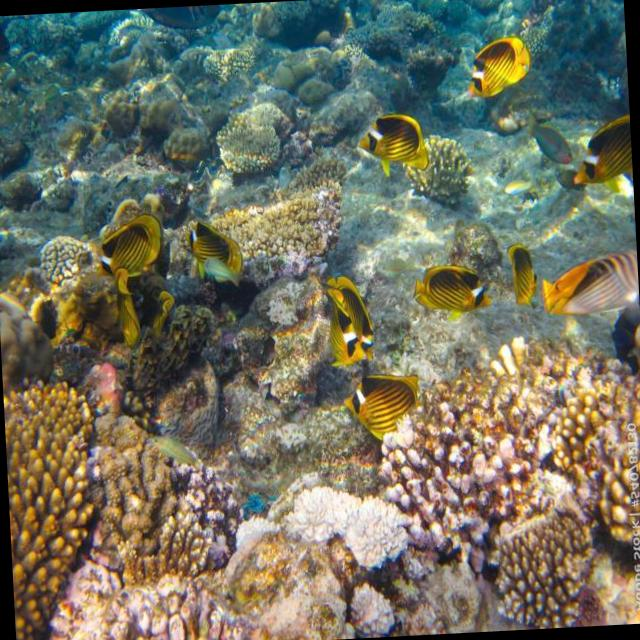ButterflyFish: (545, 253, 640, 316), (343, 372, 420, 436), (356, 112, 428, 176), (571, 116, 633, 186), (100, 216, 162, 284), (468, 36, 532, 97), (415, 266, 492, 315), (182, 219, 244, 278), (324, 295, 365, 363), (354, 274, 380, 342), (510, 247, 538, 306)
